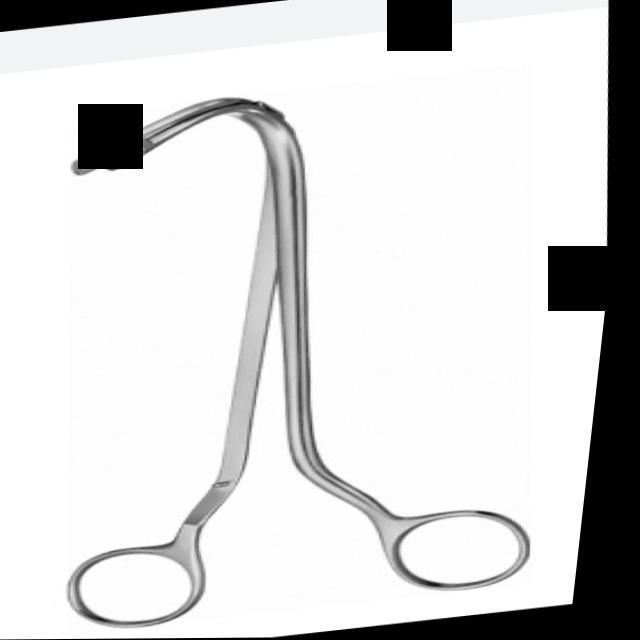Randall: (18, 58, 599, 640)
